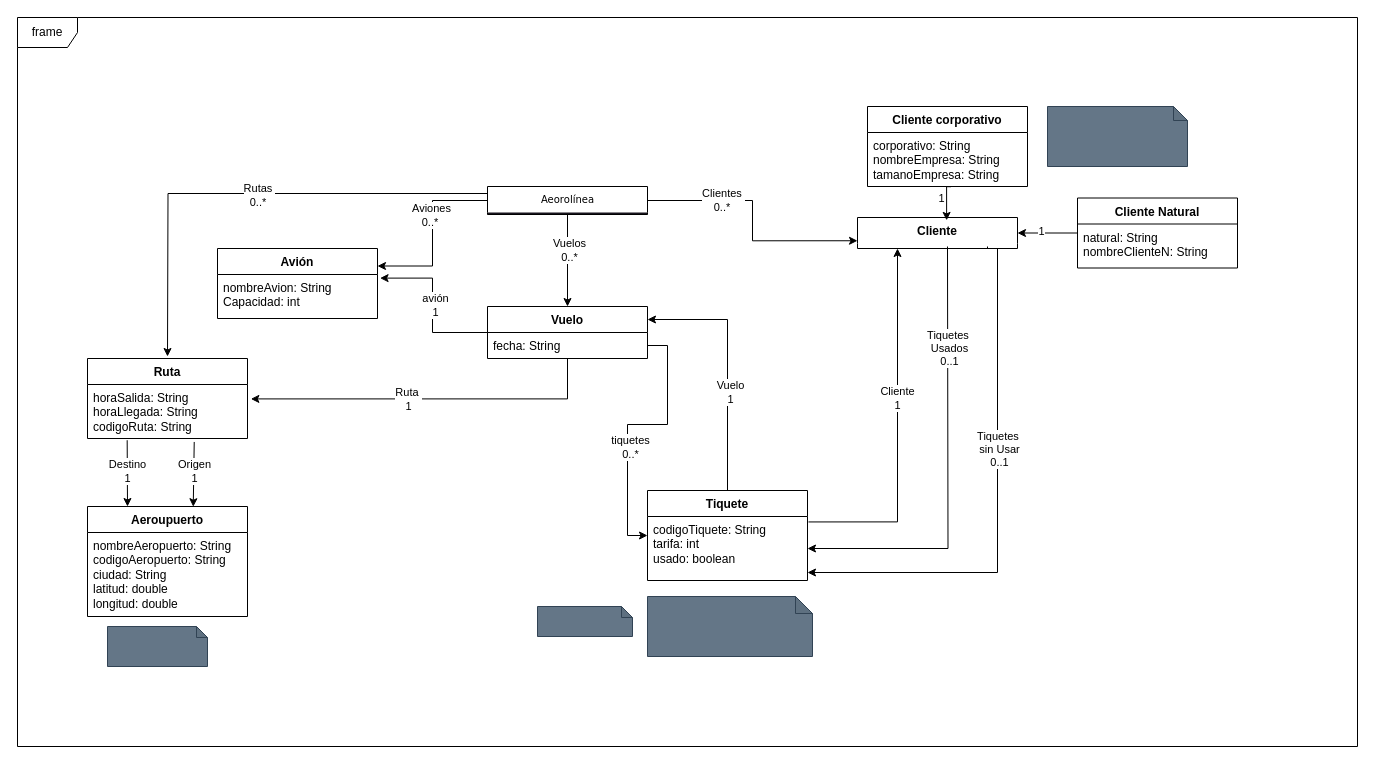
Image size: 1375x764. Some labels were removed from this diagram. The shapes that lost their labels are listed below. From the top down, each one's box as (x1, y1, x2, y2) in pixels, then its label:
(1046, 106, 1188, 166): El tamaño debe ser grande, mediana o pequeña
(536, 606, 632, 636): Código único
(646, 596, 812, 656): Los tiquetes varian dependiendo de si es temporada alta o baja
(106, 626, 208, 666): Codigo único
